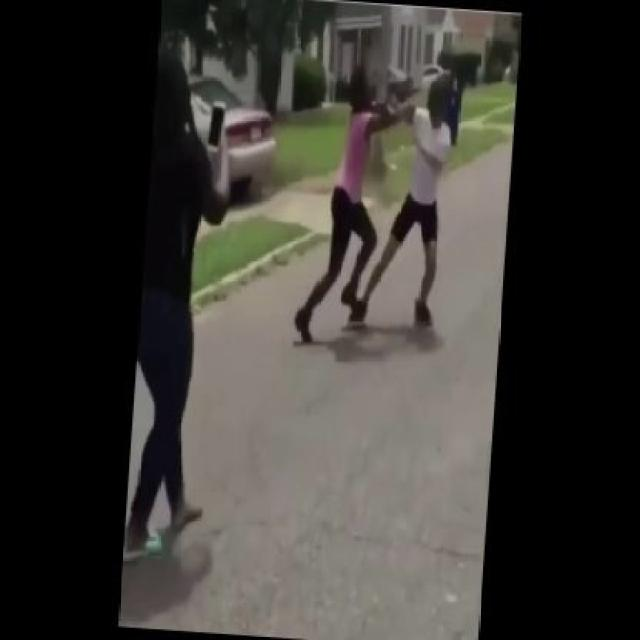fight: (286, 54, 474, 361)
non-fight: (130, 52, 282, 597)
